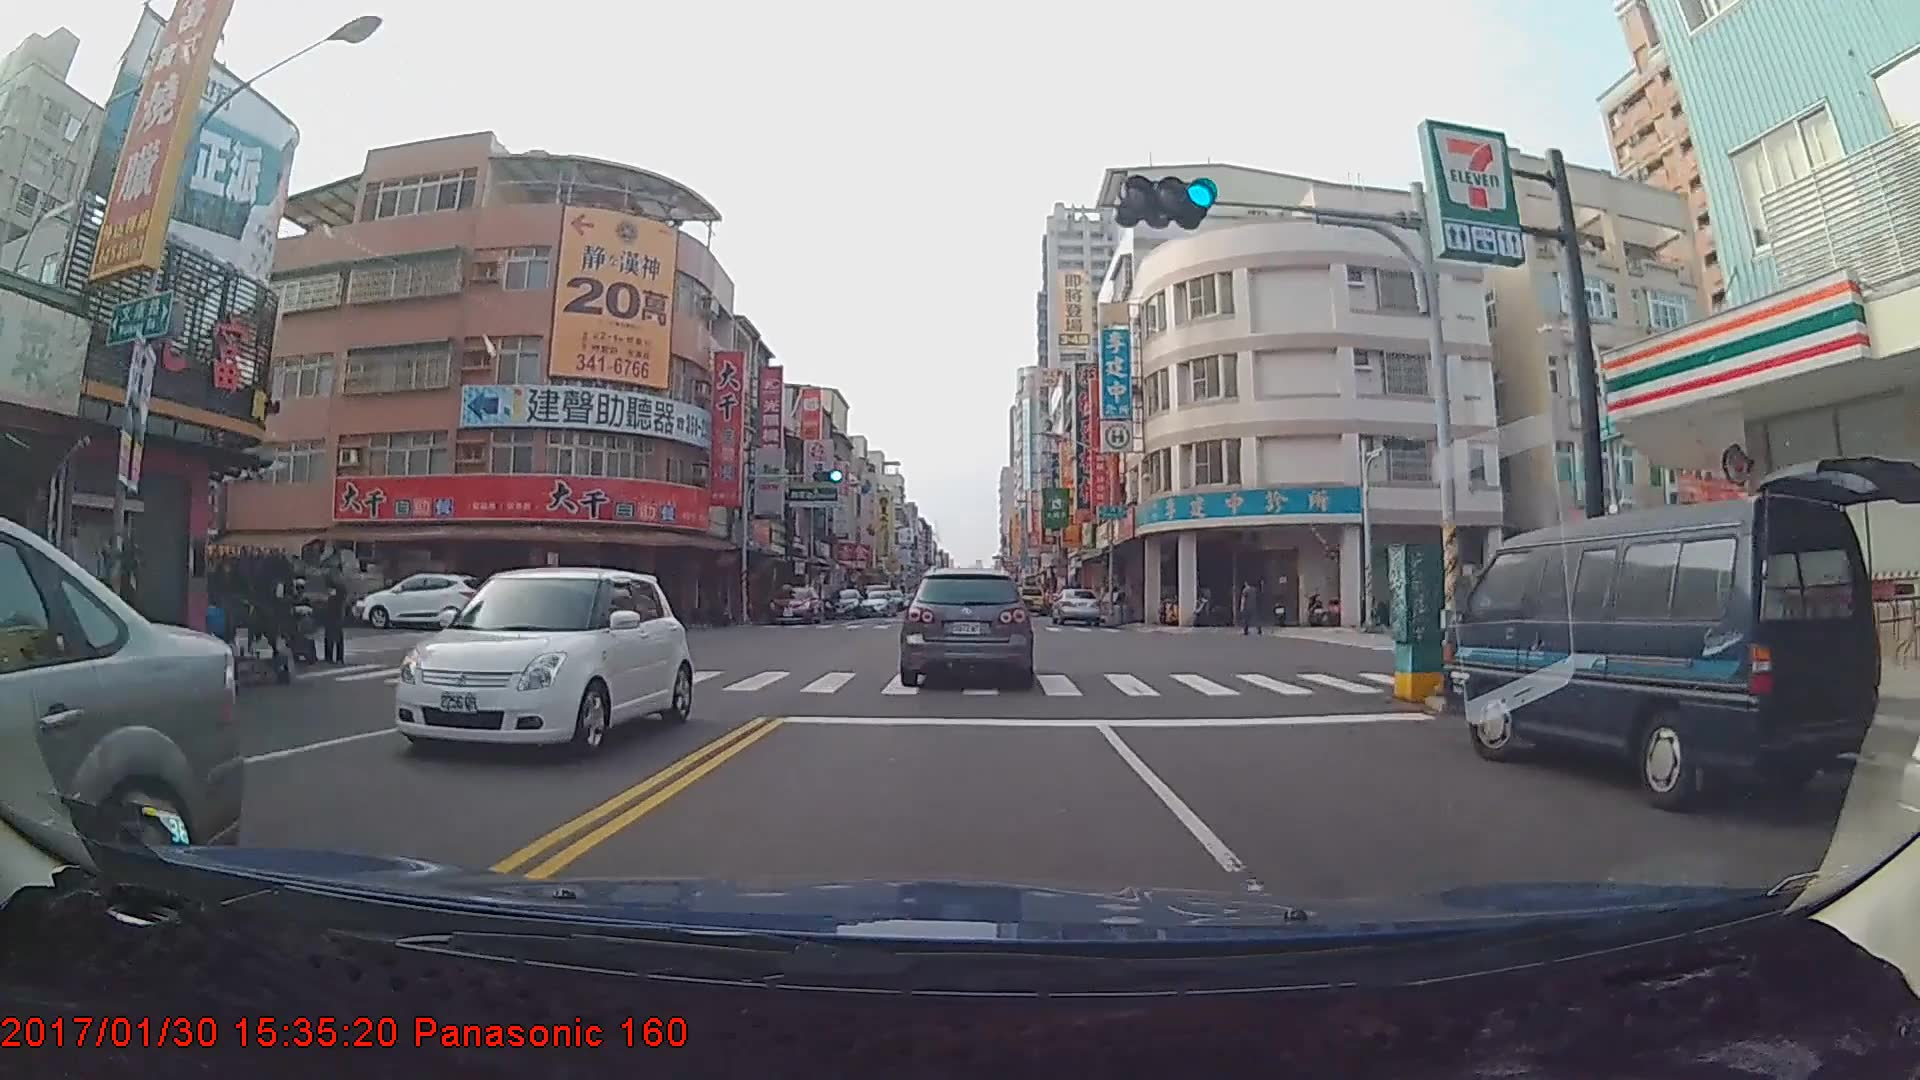pedestrian: (321, 581, 350, 668), (1239, 579, 1262, 637)
rider: (282, 572, 318, 663)
vehicle: (1440, 490, 1884, 817), (0, 504, 245, 939), (389, 561, 691, 758), (901, 565, 1032, 687), (353, 571, 490, 631), (768, 583, 819, 625), (1050, 587, 1102, 628), (824, 587, 864, 617), (1010, 581, 1045, 616), (858, 590, 897, 618)
